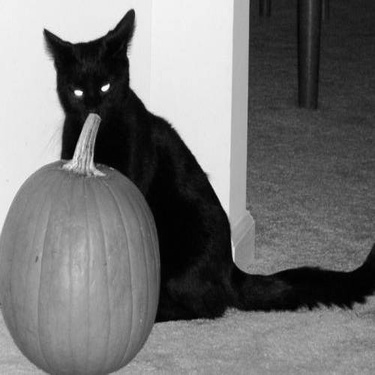cat: (38, 4, 370, 308)
